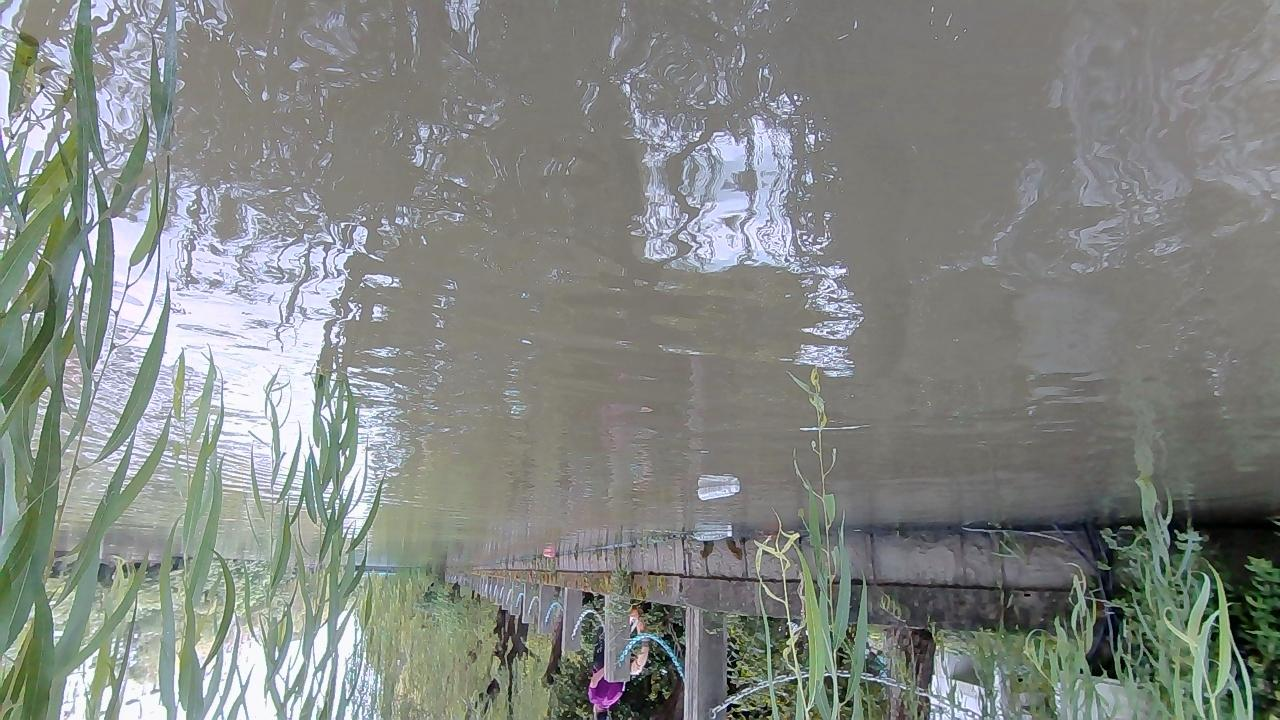Plastic: (697, 483, 741, 503), (693, 530, 733, 542), (541, 550, 556, 558)
